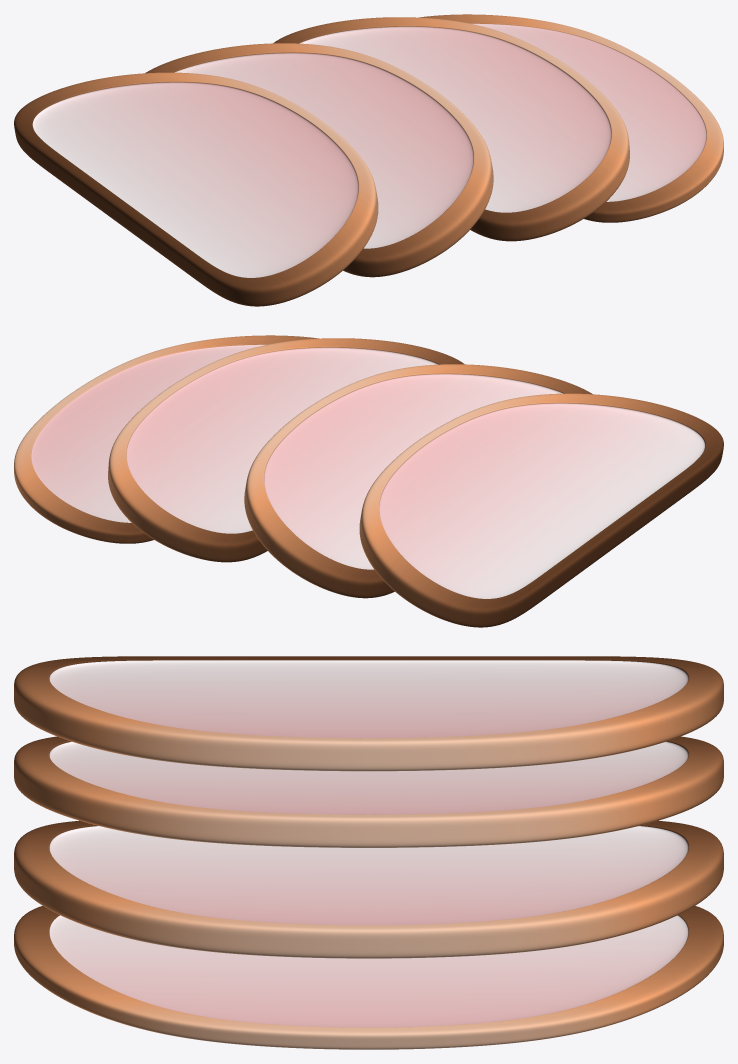
File: HH_ChoppedChicken.fbx
The picture shows the model from 3 angles, top to bottom: view 1: azimuth 30°, elevation 25°; view 2: azimuth 150°, elevation 25°; view 3: azimuth 270°, elevation 25°; orthographic projection. The views are drawn at different scales.
Visible parts, largest first — view 1: ChoppedChicken; view 2: ChoppedChicken; view 3: ChoppedChicken.
Part boxes in pixels (x1,y1,x2,y2): ChoppedChicken: (14, 14, 723, 306); ChoppedChicken: (14, 335, 723, 627); ChoppedChicken: (14, 656, 723, 1049).
Bounding box in the file's own units: 49.98 × 4.99 × 39.84.
1 material, 1 textured.
